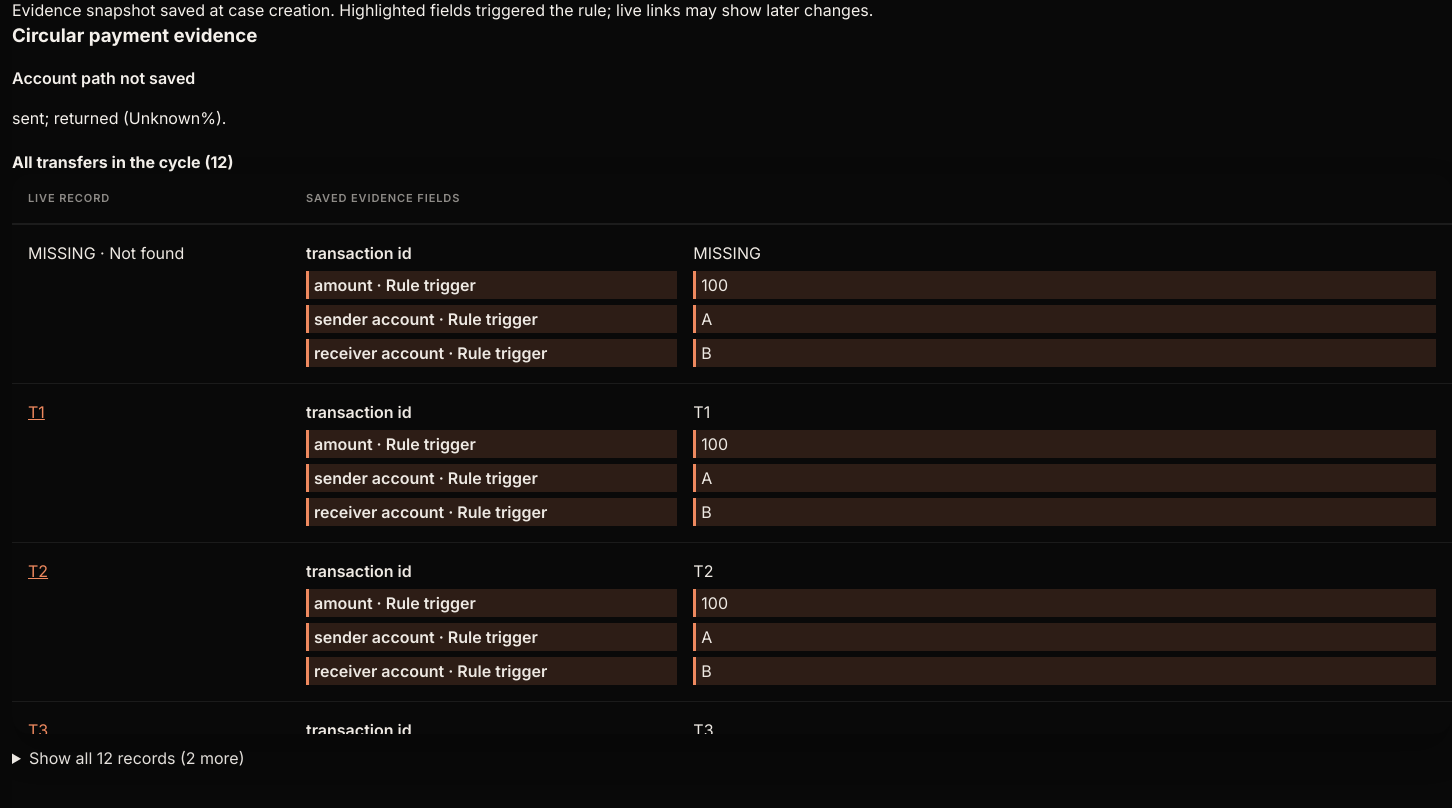
keeps all snapshot transfers, expands long lists, and marks deleted records
This screenshot has width=1452, height=808.
Expected: the text "MISSING · Not found" is shown, [28, 243, 184, 263]
Click the heading "Show all 12 records (2 more)": click(137, 758) [29, 748, 244, 768]
(page scrolled)
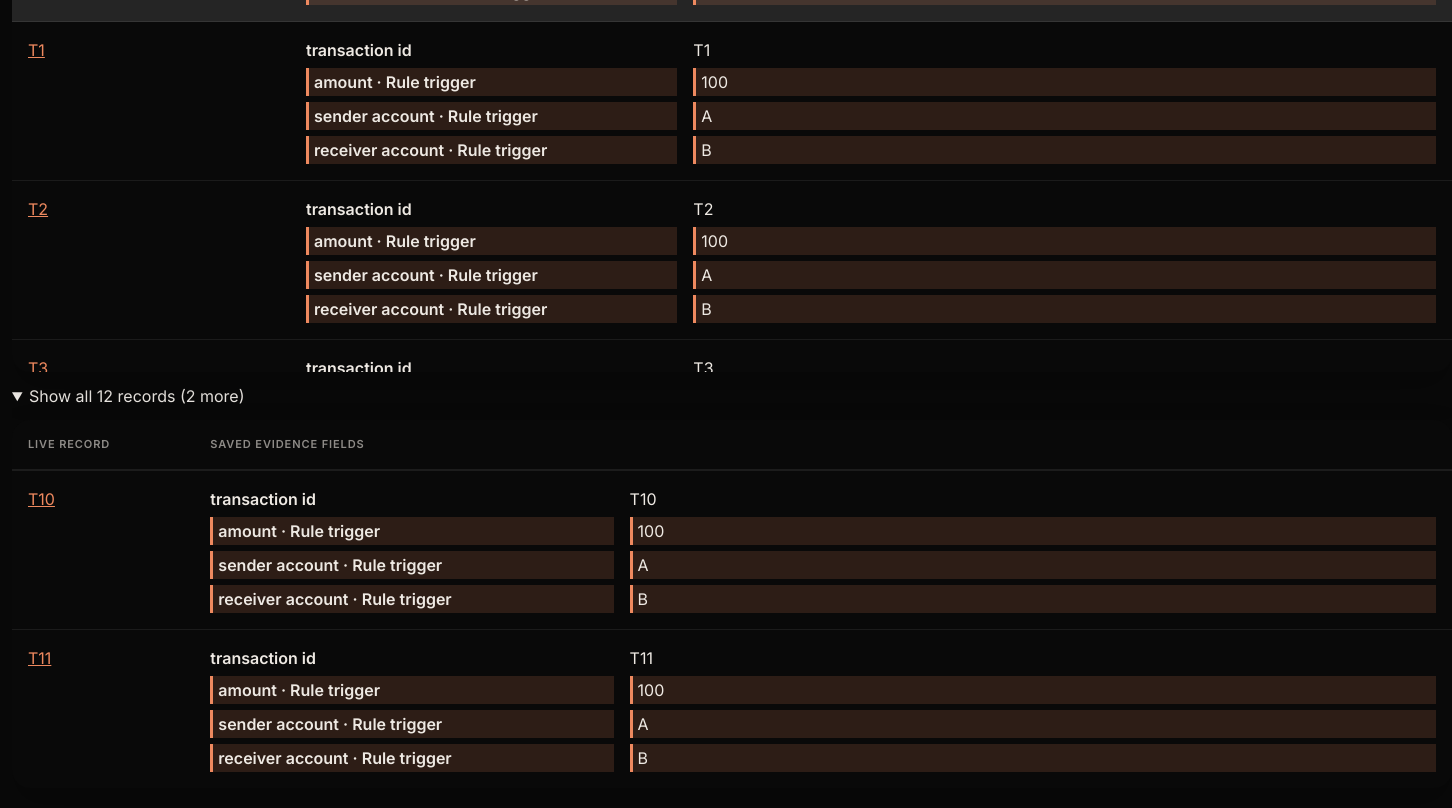
Result: the link "T11" is shown at [28, 648, 51, 668]
Result: the text "amount · Rule trigger" is shown 12 times
